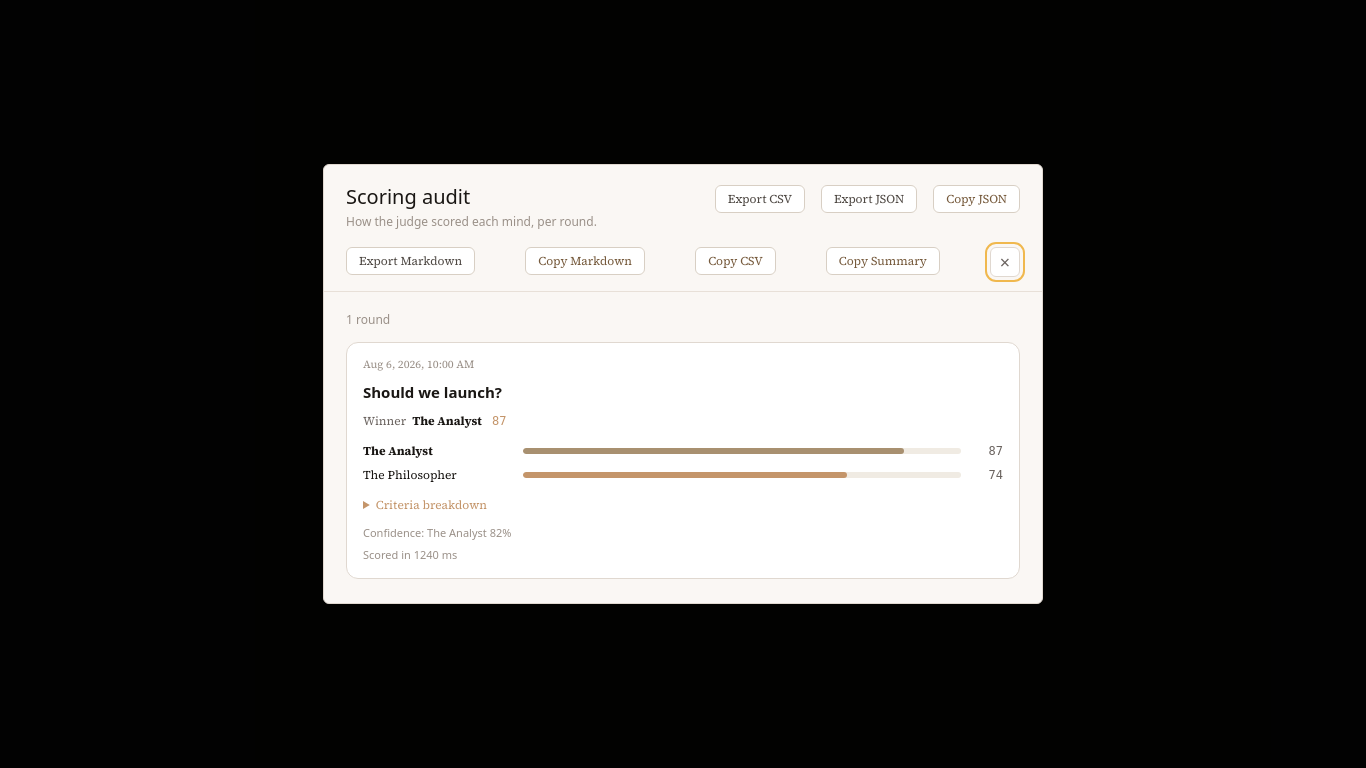
Test: ScoringAuditModal › copies the visible rounds as Markdown without downloading a file
Expected: the text "Should we launch?" is shown, top-left (363, 382), bottom-right (502, 402)
Click the button with aria-label "copy scoring audit as markdown": (585, 262) top-left (525, 248), bottom-right (645, 276)
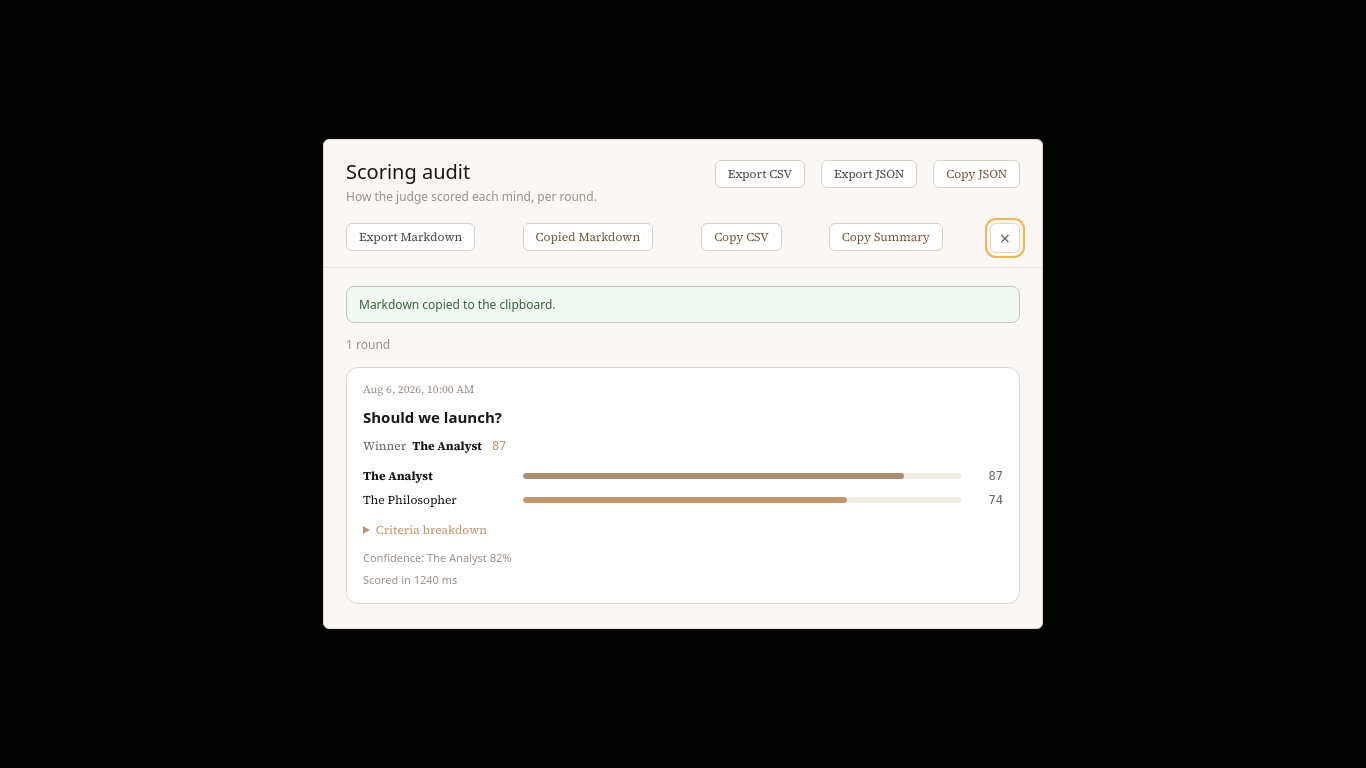
Now the message reads "Markdown copied to the clipboard.", box top-left (359, 296), bottom-right (556, 313)
